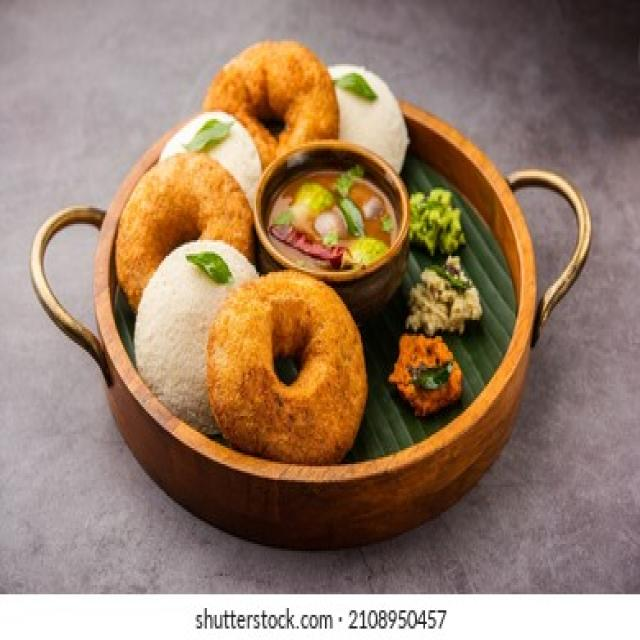IDLI: (132, 233, 259, 414), (332, 64, 409, 175), (161, 112, 258, 197)
MEDU VADA: (199, 269, 374, 468), (114, 155, 255, 306), (206, 39, 346, 167)
